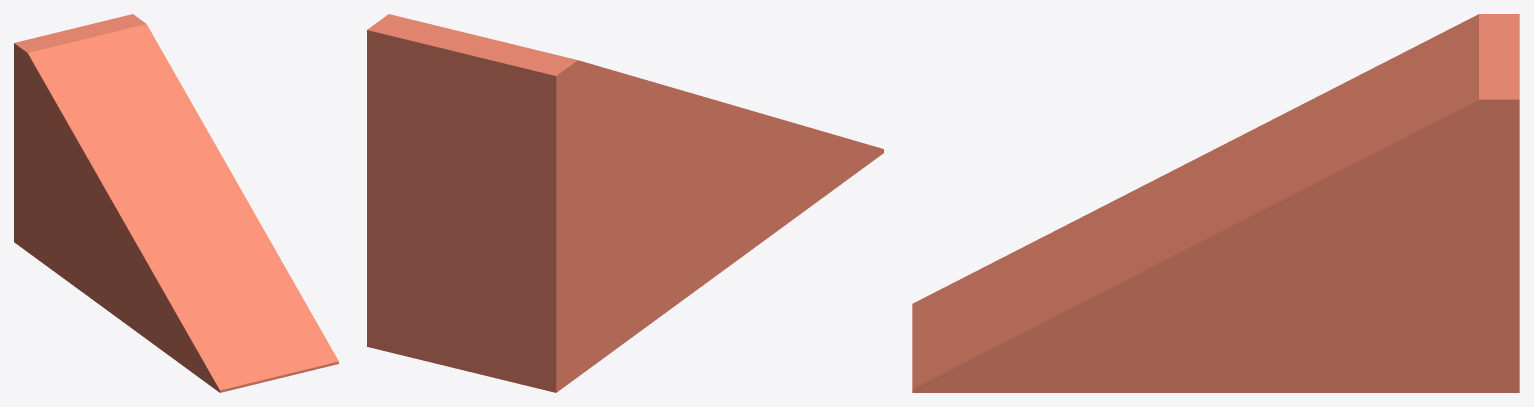
Rendered from High_Ramp.obj.
3 renders of one model, left to right at view 1: azimuth 30°, elevation 25°; view 2: azimuth 150°, elevation 25°; view 3: azimuth 270°, elevation 25°, orthographic. The views are drawn at different scales.
Visible parts, largest first — view 1: High_Ramp; view 2: High_Ramp; view 3: High_Ramp.
Boxes of the visible parts, x1,y1,x2,y2 form: High_Ramp: [14, 14, 338, 392]; High_Ramp: [367, 14, 883, 392]; High_Ramp: [912, 14, 1519, 392].
Bounding box in the file's own units: 5 × 8 × 15.
